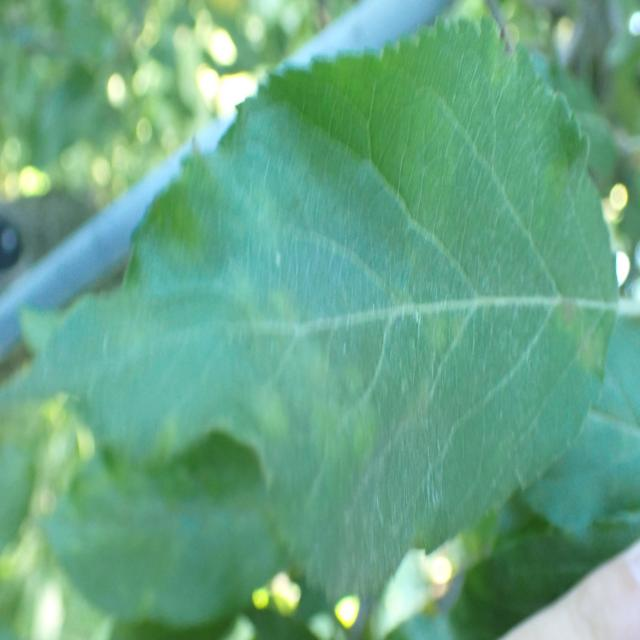scab: (155, 219, 607, 534)
